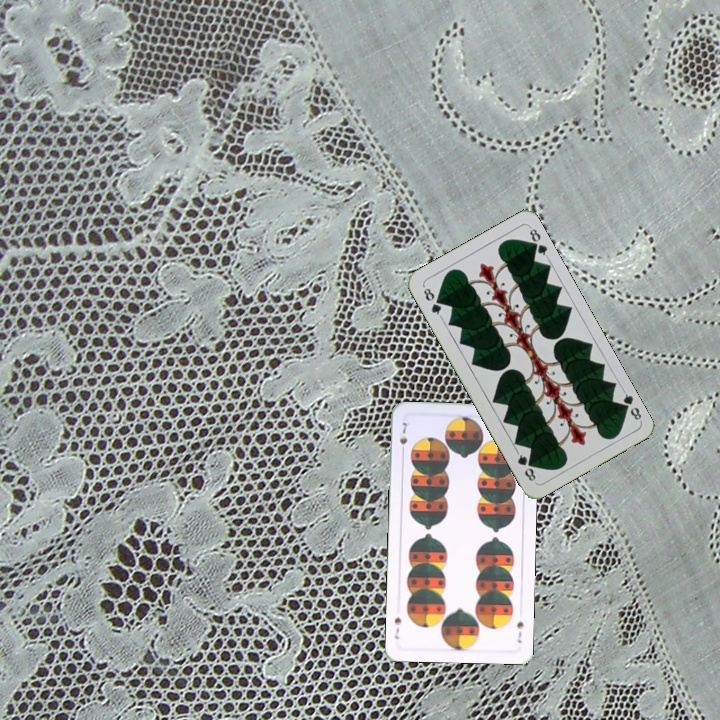G8: (616, 386, 644, 424), (419, 282, 444, 320)
S7: (395, 418, 410, 457), (513, 617, 526, 645)
